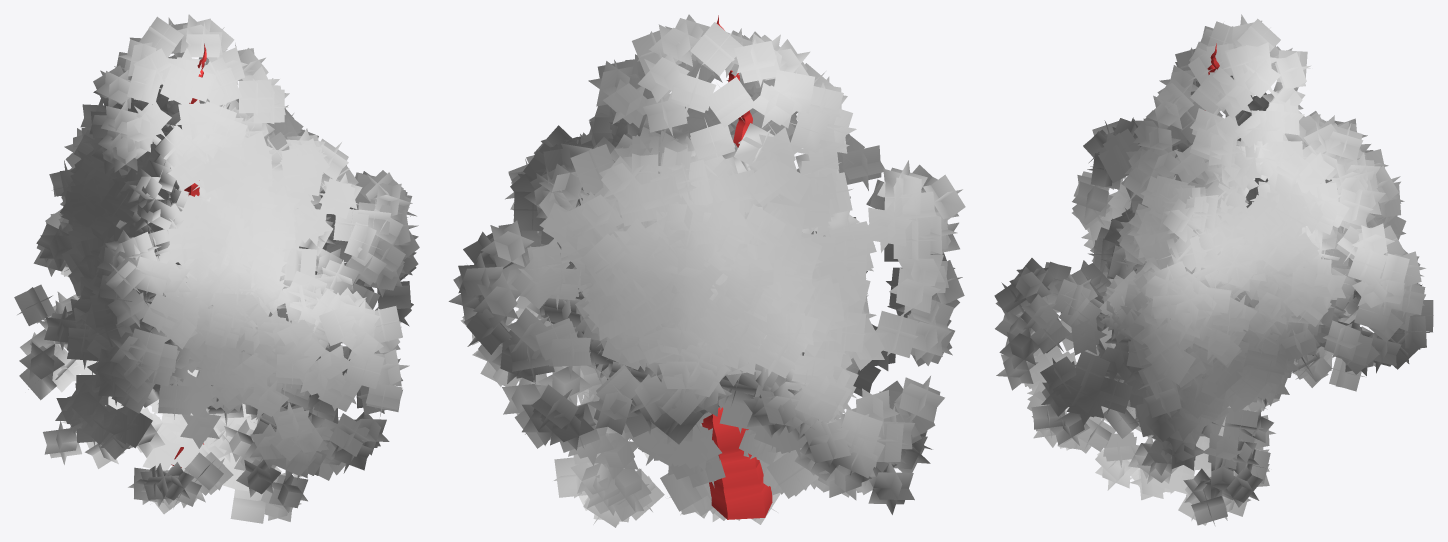
The model's file is Tree3_1.fbx.
3 views of the same model, side by side, from view 1: azimuth 30°, elevation 25°; view 2: azimuth 150°, elevation 25°; view 3: azimuth 270°, elevation 25° (orthographic). The views are drawn at different scales.
Visible parts, largest first — view 1: Tree3_1; view 2: Tree3_1; view 3: Tree3_1.
Part boxes in pixels (x1=…): Tree3_1: x1=14, y1=14, x2=419, y2=523; Tree3_1: x1=448, y1=14, x2=965, y2=527; Tree3_1: x1=994, y1=14, x2=1433, y2=526.
Bounding box in the file's own units: 843 × 1074 × 939.
